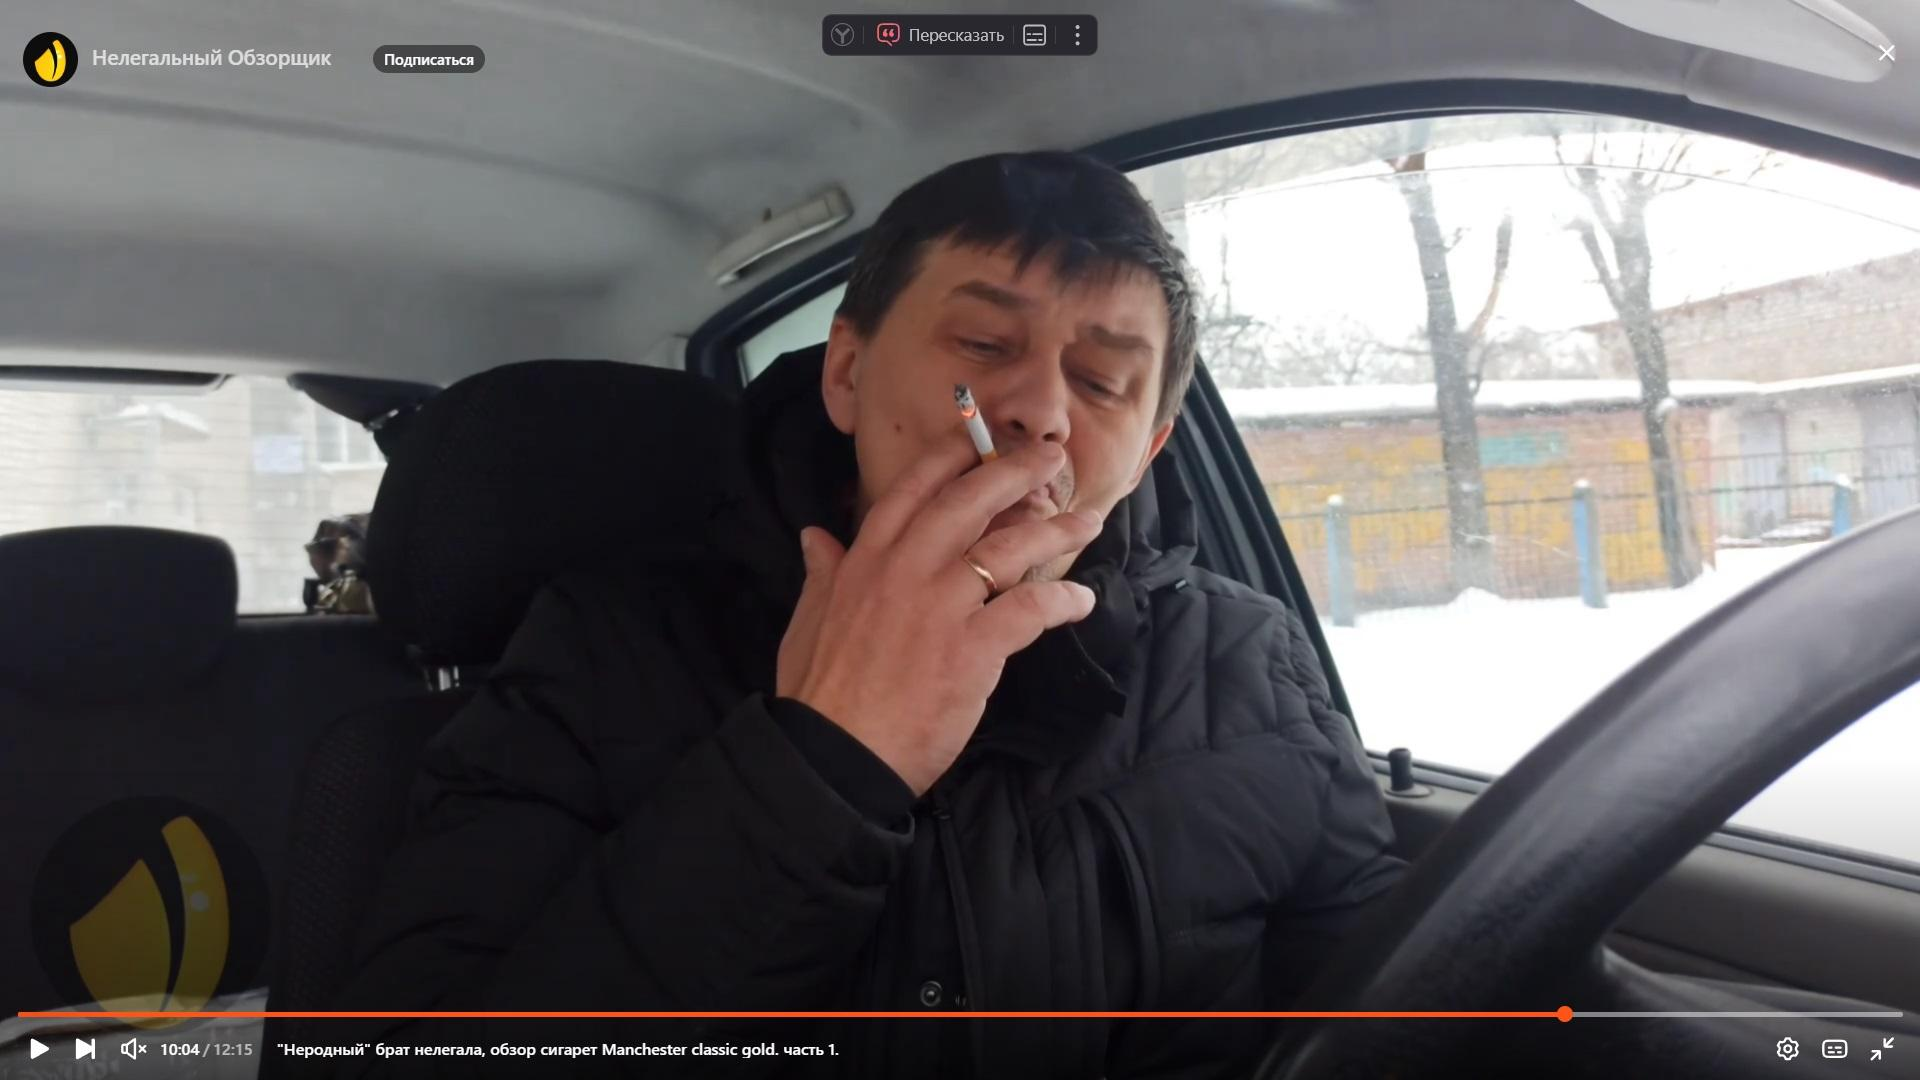cigarette: (953, 384, 998, 463)
